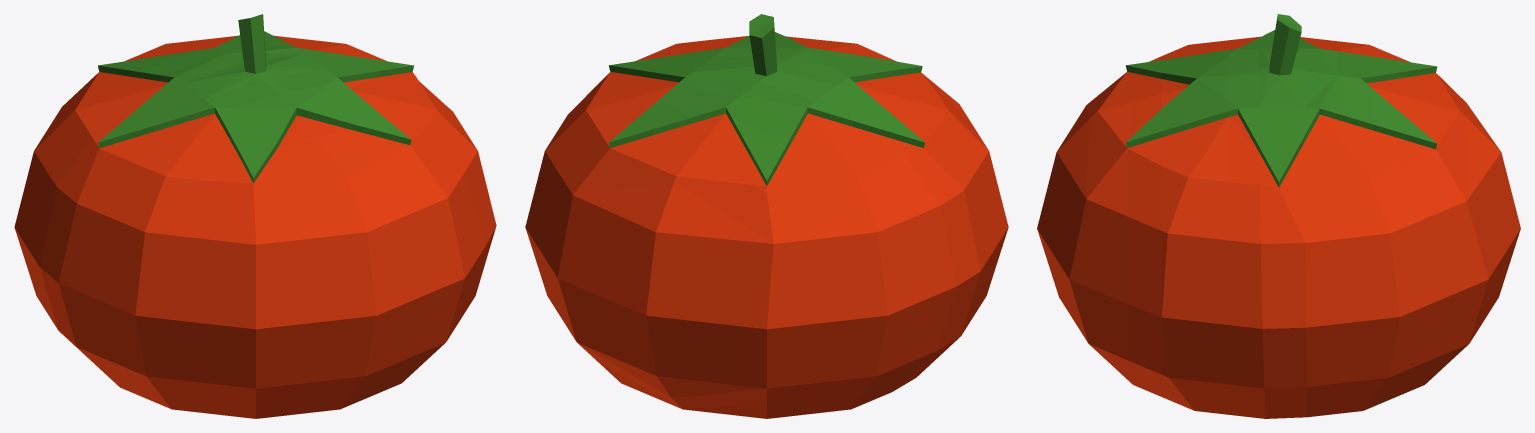
File: Tomato.fbx
3 renders of one model, left to right at view 1: azimuth 30°, elevation 25°; view 2: azimuth 150°, elevation 25°; view 3: azimuth 270°, elevation 25°, orthographic.
Visible parts, largest first — view 1: polySurface132; view 2: polySurface132; view 3: polySurface132.
Boxes of the visible parts, box(x1,y1,x2,y2) form: polySurface132: box(14, 14, 496, 418); polySurface132: box(525, 14, 1008, 418); polySurface132: box(1037, 14, 1520, 418).
Bounding box in the file's own units: 251 × 215 × 256.
